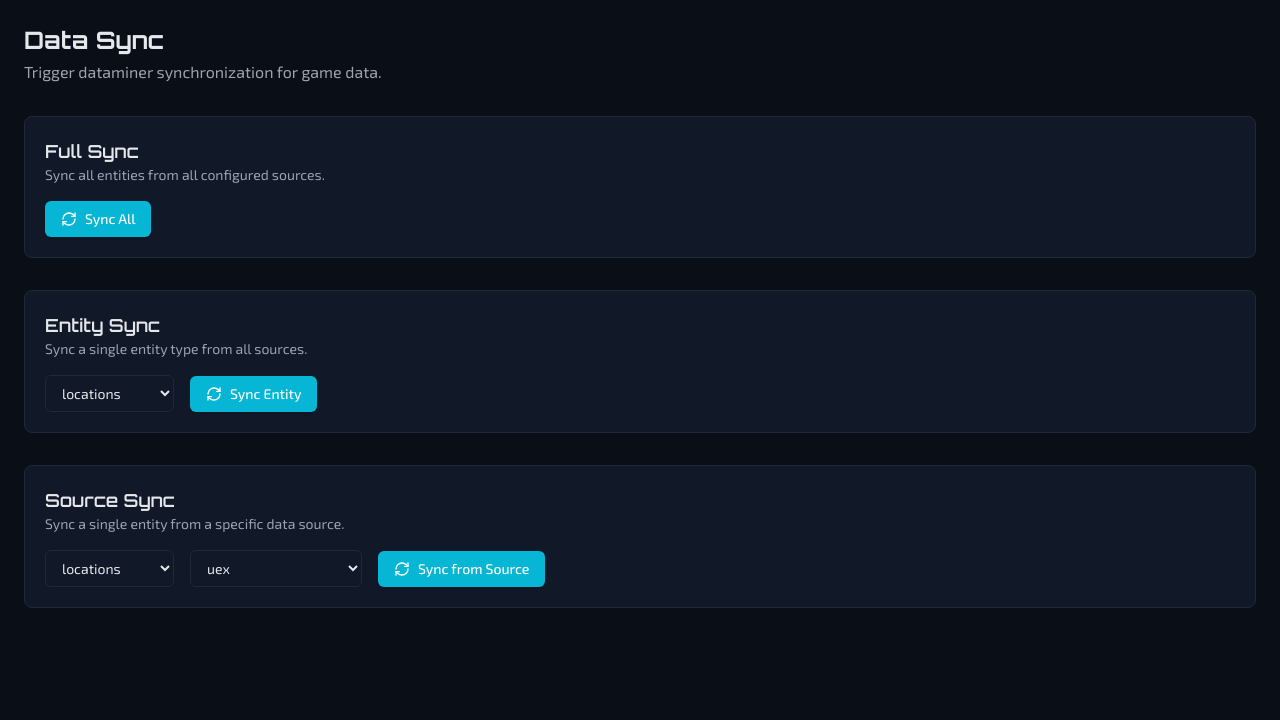
Test: SyncPage › entity sync shows error on failure
Click the button "Sync Entity".
click(254, 394)  # box [190,376,318,412]
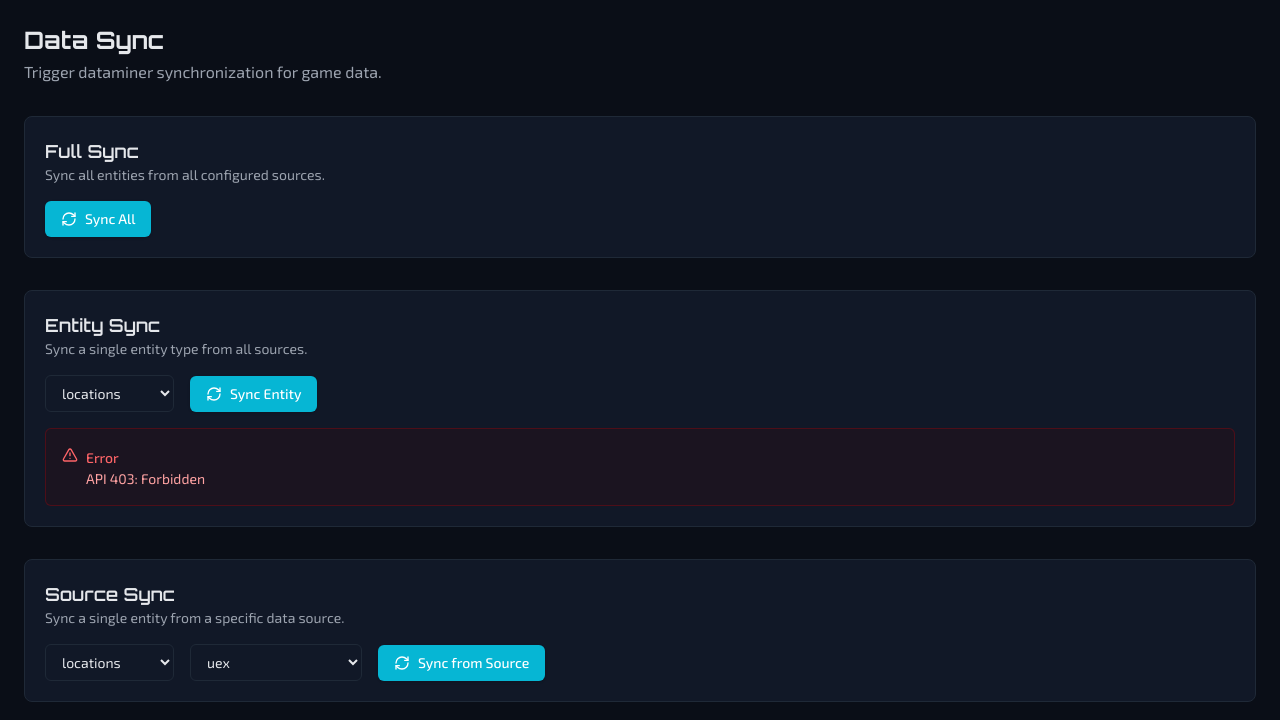
Result: the text "API 403: Forbidden" is shown at [86,469,205,489]
